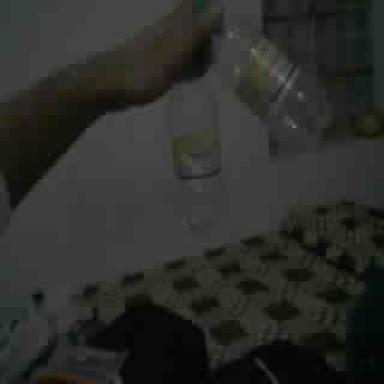bottle: (194, 16, 332, 147), (170, 66, 224, 229)
